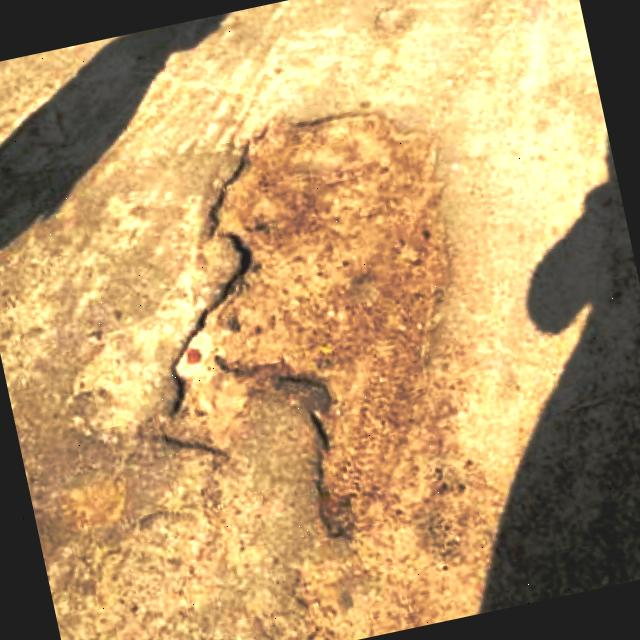pothole: (94, 90, 511, 572)
